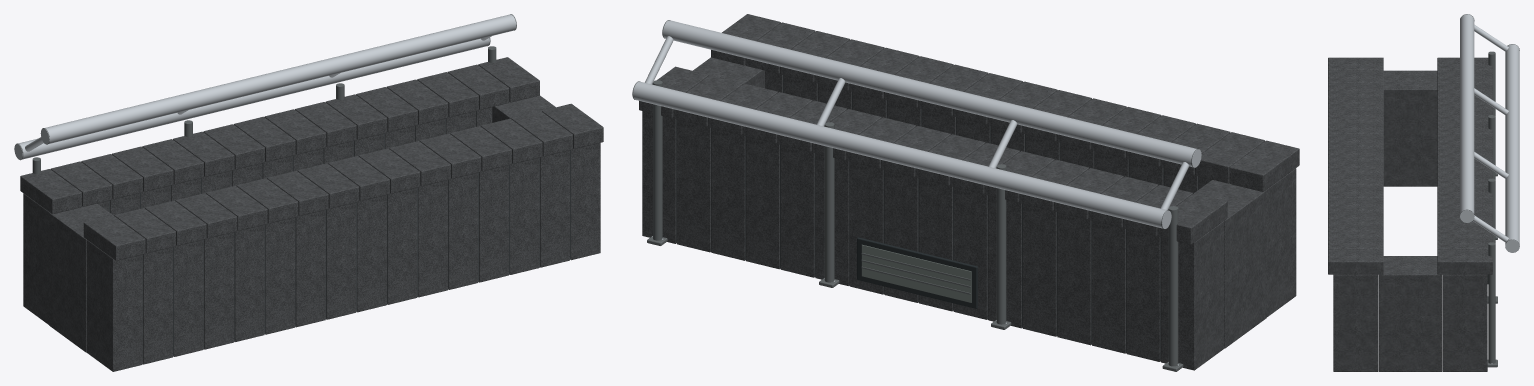
Rendered from current_left.glb.
3 renders of one model, left to right at view 1: azimuth 30°, elevation 25°; view 2: azimuth 150°, elevation 25°; view 3: azimuth 270°, elevation 25°, orthographic. The views are drawn at different scales.
Visible parts, largest first — view 1: current_left__stone, current_left__rails, current_left__rail_hardware; view 2: current_left__stone, current_left__rails, current_left__rail_hardware, current_left__lighting_detail; view 3: current_left__stone, current_left__rails, current_left__rail_hardware.
Part boxes in pixels (box(x1,y1,x2,y2)): current_left__stone: box(20, 57, 603, 371); current_left__rails: box(14, 14, 516, 159); current_left__rail_hardware: box(17, 14, 516, 173); current_left__stone: box(639, 14, 1299, 370); current_left__rails: box(632, 20, 1201, 228); current_left__rail_hardware: box(632, 20, 1198, 371); current_left__lighting_detail: box(857, 237, 977, 308); current_left__stone: box(1328, 57, 1492, 371); current_left__rails: box(1460, 14, 1519, 252); current_left__rail_hardware: box(1460, 14, 1519, 367).
Size of the model in its own units: 2.35 by 0.8457 by 0.9307.
Materials: 6 (1 with a texture image).
